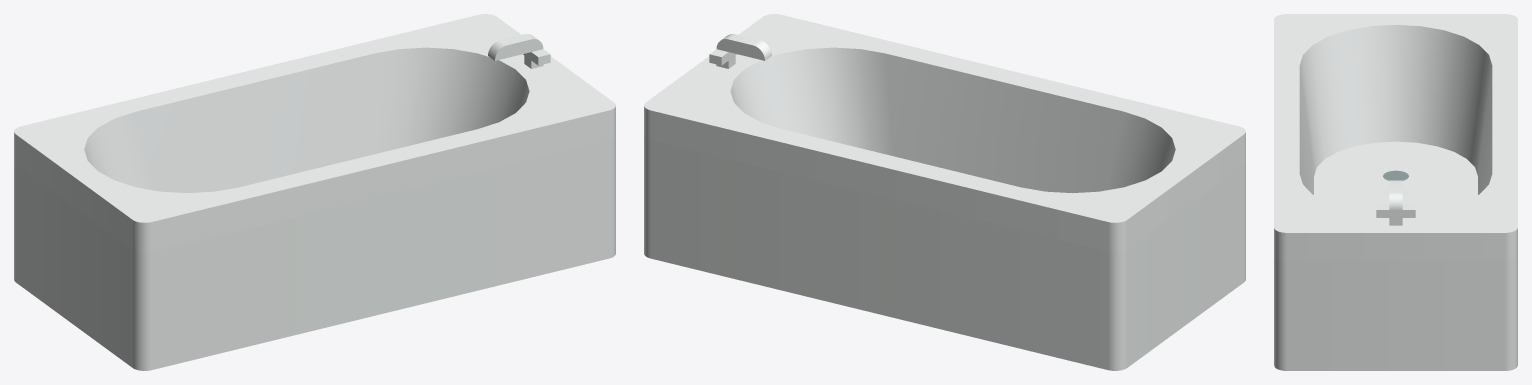
Rendered from bathtub.glb.
3 views of the same model, side by side, from view 1: azimuth 30°, elevation 25°; view 2: azimuth 150°, elevation 25°; view 3: azimuth 270°, elevation 25° (orthographic). The views are drawn at different scales.
Parts seen in each view (by area): view 1: bathtub(Clone); view 2: bathtub(Clone); view 3: bathtub(Clone).
Part boxes in pixels (bbox=[...]): bathtub(Clone): bbox=[14, 14, 615, 370]; bathtub(Clone): bbox=[644, 14, 1245, 370]; bathtub(Clone): bbox=[1274, 14, 1517, 370].
Bounding box in the file's own units: 2.42 × 0.8526 × 1.14.
3 materials, 3 textured.
